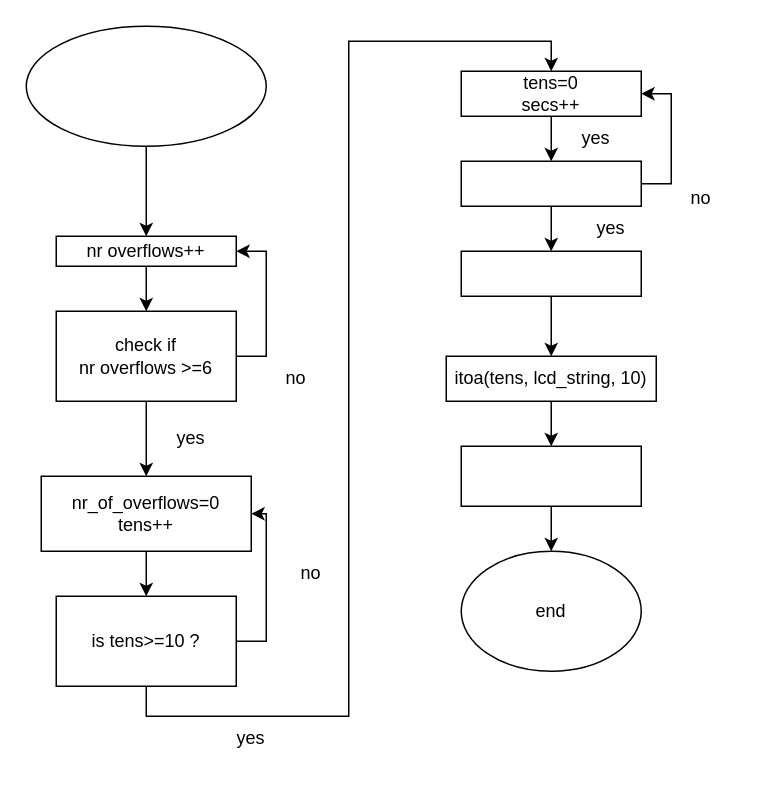
This 773x788 diagram has some shape labels left out. The box of each missing label's shape, as (x1, y1, x2, y2) in pixels:
check secs >=60 ?: (460, 160, 641, 206)
ISR_TIMER2_OFV_vect: (25, 25, 266, 146)
lcd_puts(lcd_string): (460, 445, 641, 506)
secs=0: (460, 250, 641, 296)
